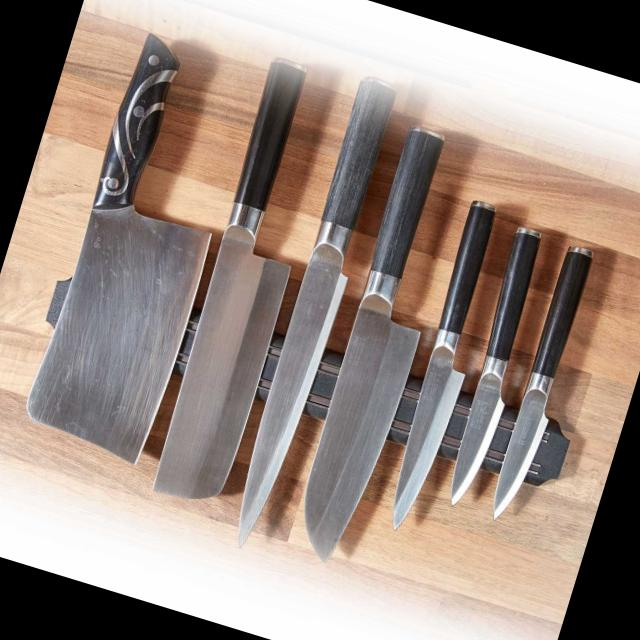Weapon: (0, 19, 275, 472), (271, 114, 484, 582), (210, 74, 409, 560), (143, 55, 354, 512), (367, 189, 515, 547), (474, 220, 613, 539), (439, 220, 562, 520)
